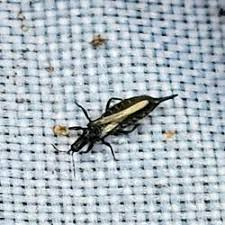Phlaeothripidae: (51, 87, 181, 179)
